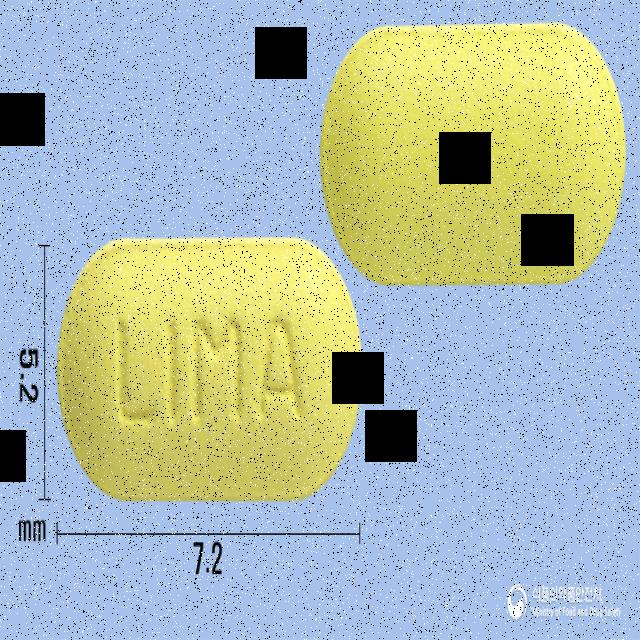Liamclo -250mg: (59, 237, 365, 503)
